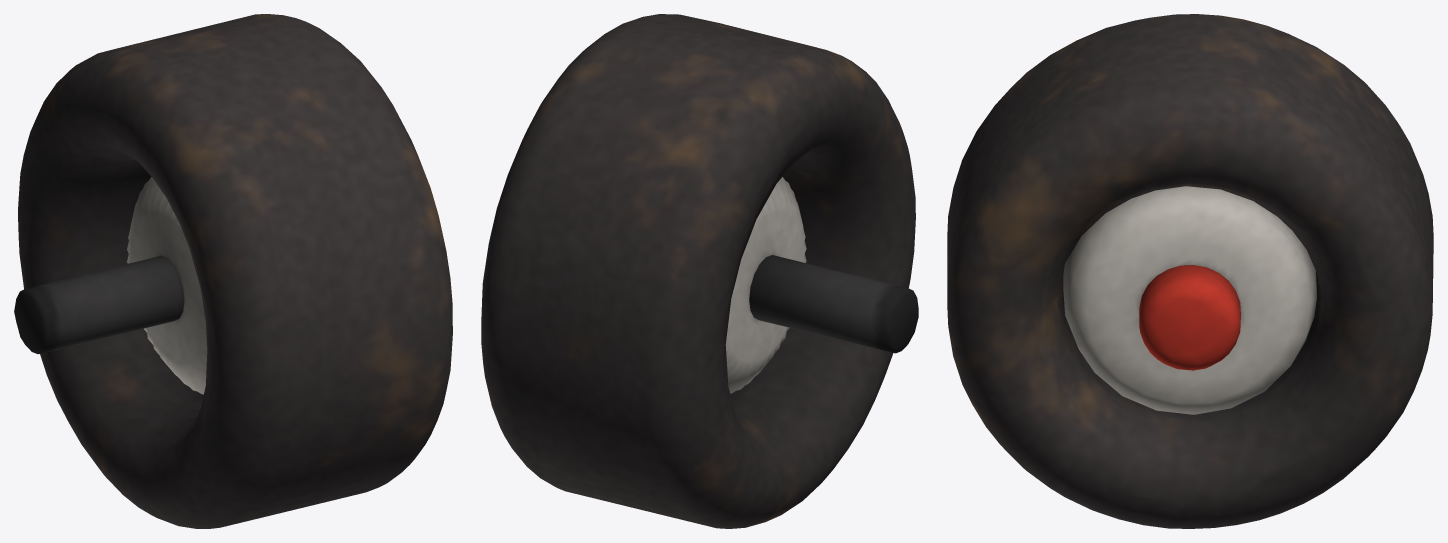
The picture shows the model from 3 angles, left to right: view 1: azimuth 30°, elevation 25°; view 2: azimuth 150°, elevation 25°; view 3: azimuth 270°, elevation 25°; orthographic projection.
Parts seen in each view (by area): view 1: wheel_FL; view 2: wheel_FL; view 3: wheel_FL.
Boxes of the visible parts, bbox=[...] form: wheel_FL: bbox=[14, 14, 452, 528]; wheel_FL: bbox=[481, 14, 918, 528]; wheel_FL: bbox=[947, 14, 1433, 528].
Bounding box in the file's own units: 0.2008 × 0.2594 × 0.2594.
Materials: 1 (1 with a texture image).
